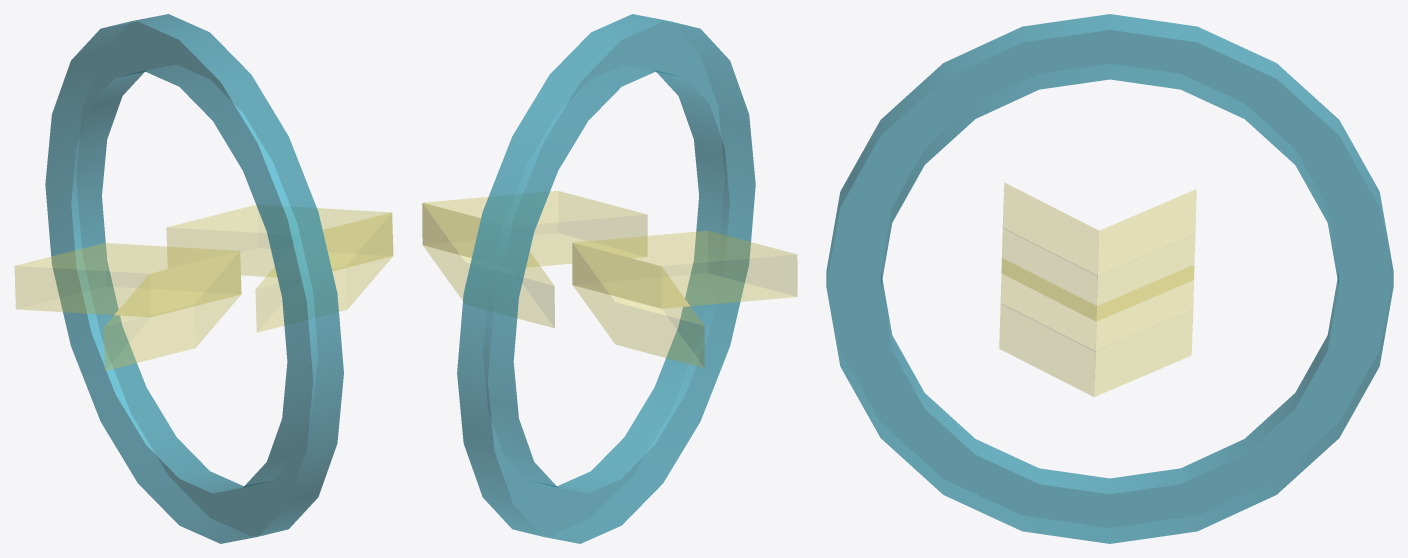
File: checkpoint (2).fbx
3 views of the same model, side by side, from view 1: azimuth 30°, elevation 25°; view 2: azimuth 150°, elevation 25°; view 3: azimuth 270°, elevation 25° (orthographic). The views are drawn at different scales.
Visible parts, largest first — view 1: polySurface1, polySurface5; view 2: polySurface1, polySurface5; view 3: polySurface1, polySurface5.
Part boxes in pixels (x1,y1,x2,y2): polySurface1: (45,14,343,543); polySurface5: (14,205,393,370); polySurface1: (457,14,755,543); polySurface5: (422,191,797,367); polySurface1: (826,14,1393,543); polySurface5: (999,183,1196,396).
Size of the model in its own units: 3.71 by 5.18 by 5.18.
